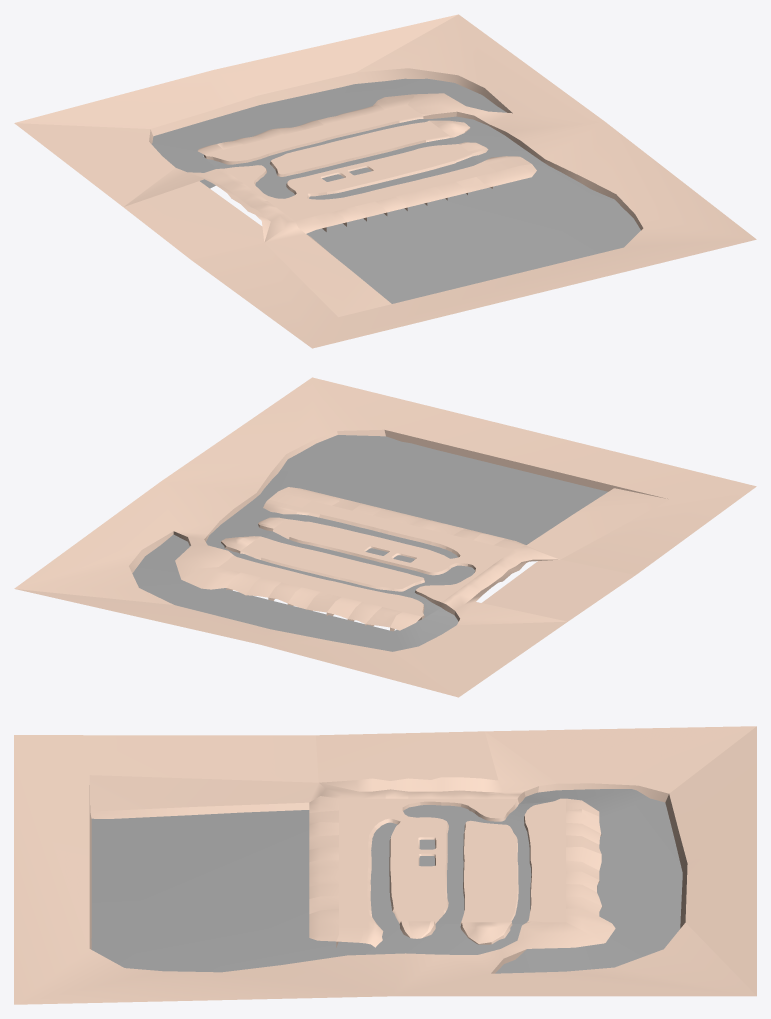
The model's file is SM_Playground_group 10x10.fbx.
The picture shows the model from 3 angles, top to bottom: view 1: azimuth 30°, elevation 25°; view 2: azimuth 150°, elevation 25°; view 3: azimuth 270°, elevation 25°; orthographic projection. The views are drawn at different scales.
Parts seen in each view (by area): view 1: SM_Background, SM_Background_river, river; view 2: SM_Background, SM_Background_river, river; view 3: SM_Background, SM_Background_river, river.
Boxes of the visible parts, x1,y1,x2,y2 form: SM_Background: (14, 14, 756, 348); SM_Background_river: (151, 78, 640, 303); river: (203, 119, 480, 199); SM_Background: (14, 377, 756, 697); SM_Background_river: (132, 435, 607, 651); river: (238, 514, 474, 618); SM_Background: (14, 726, 756, 1004); SM_Background_river: (91, 789, 682, 973); river: (370, 802, 549, 923).
Size of the model in its own units: 22967 by 1493 by 26681.
